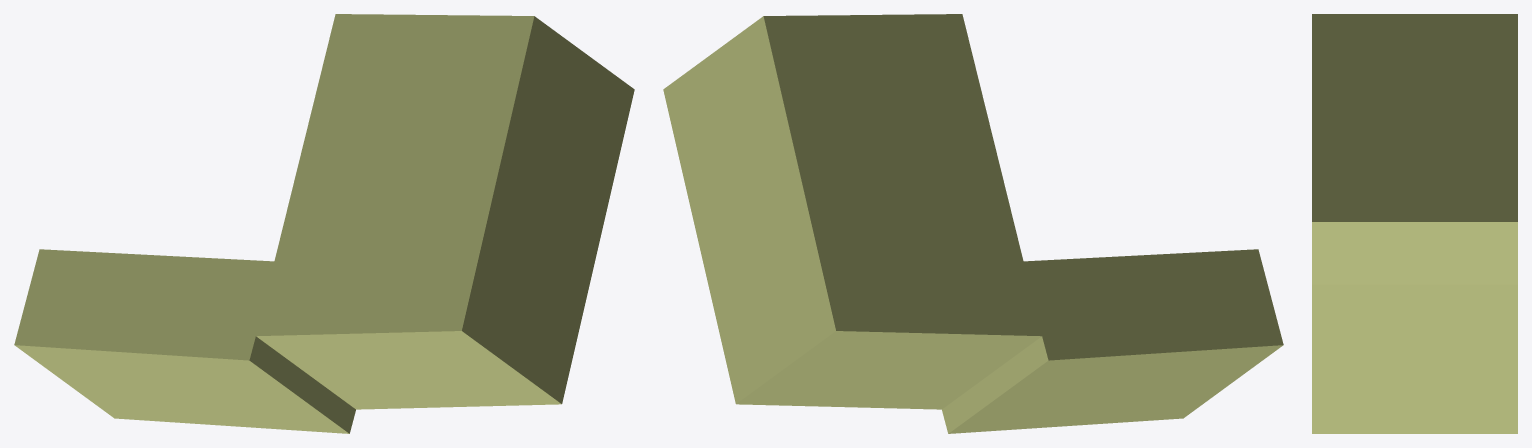
The picture shows the model from 3 angles, left to right: view 1: azimuth 30°, elevation 25°; view 2: azimuth 150°, elevation 25°; view 3: azimuth 270°, elevation 25°; orthographic projection. The views are drawn at different scales.
Visible parts, largest first — view 1: 0_1_0_1_3_3_3_2_3_1; view 2: 0_1_0_1_3_3_3_2_3_1; view 3: 0_1_0_1_3_3_3_2_3_1.
Part boxes in pixels (<box>): 0_1_0_1_3_3_3_2_3_1: <box>14,14,634,433</box>; 0_1_0_1_3_3_3_2_3_1: <box>663,14,1283,433</box>; 0_1_0_1_3_3_3_2_3_1: <box>1312,14,1517,433</box>.
Size of the model in its own units: 17.97 by 11.48 by 6.
